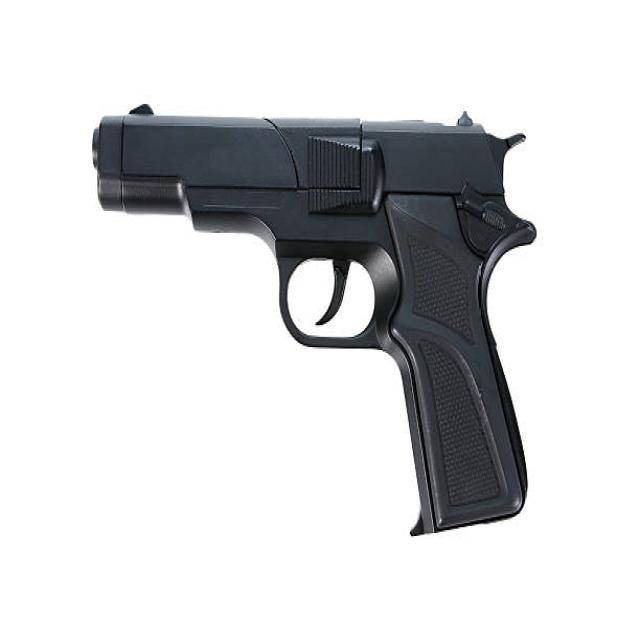pistol: (87, 97, 546, 547)
